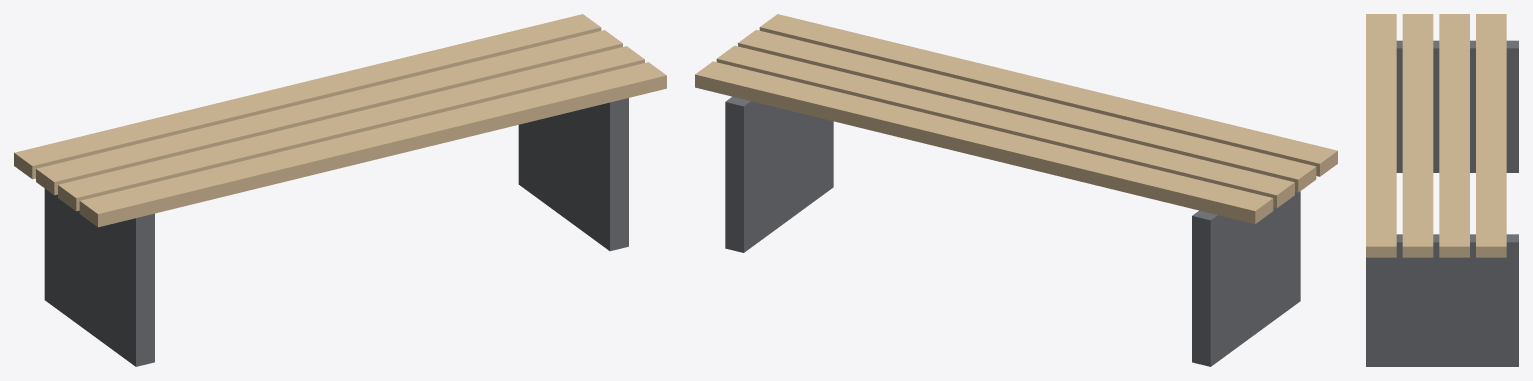
The model's file is bench_city.glb.
3 renders of one model, left to right at view 1: azimuth 30°, elevation 25°; view 2: azimuth 150°, elevation 25°; view 3: azimuth 270°, elevation 25°, orthographic. The views are drawn at different scales.
Visible parts, largest first — view 1: bench_city; view 2: bench_city; view 3: bench_city.
Boxes of the visible parts, bbox=[...] form: bench_city: bbox=[14, 14, 666, 366]; bench_city: bbox=[695, 14, 1337, 366]; bench_city: bbox=[1366, 14, 1518, 366].
Size of the model in its own units: 1.8 by 0.49 by 0.5.
